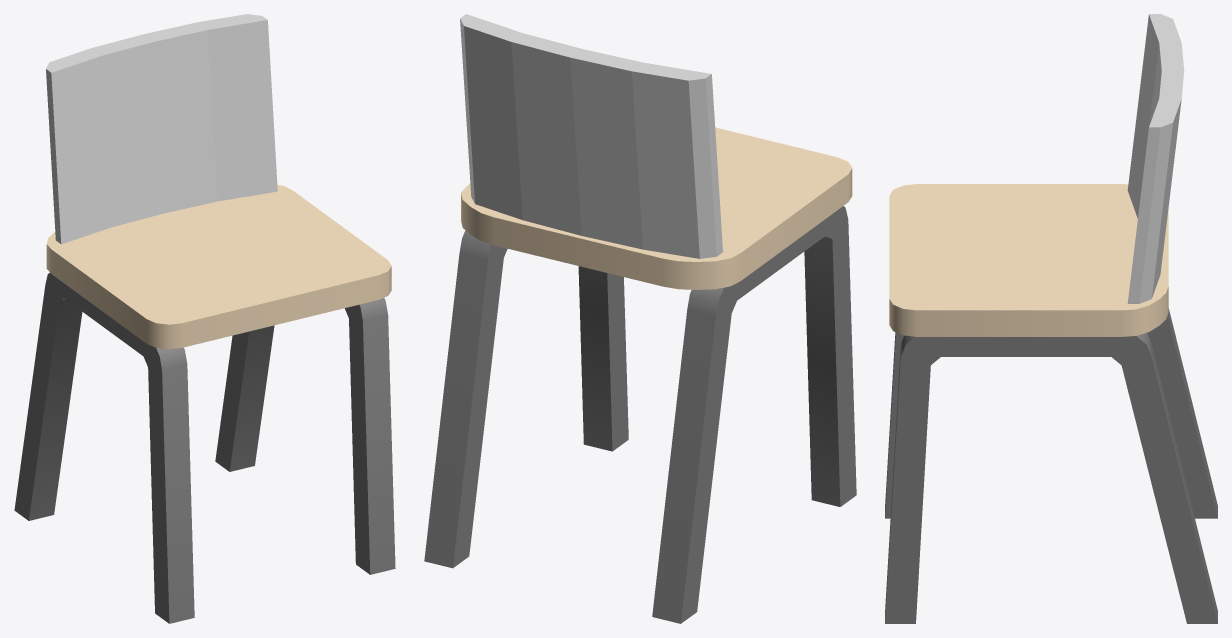
File: Chair_A.fbx
The picture shows the model from 3 angles, left to right: view 1: azimuth 30°, elevation 25°; view 2: azimuth 150°, elevation 25°; view 3: azimuth 270°, elevation 25°; orthographic projection. The views are drawn at different scales.
Parts seen in each view (by area): view 1: Chair_A; view 2: Chair_A; view 3: Chair_A.
Boxes of the visible parts, x1,y1,x2,y2 form: Chair_A: [14, 14, 395, 623]; Chair_A: [424, 14, 856, 623]; Chair_A: [885, 14, 1217, 623].
Bounding box in the file's own units: 61.1 × 111 × 67.91.
